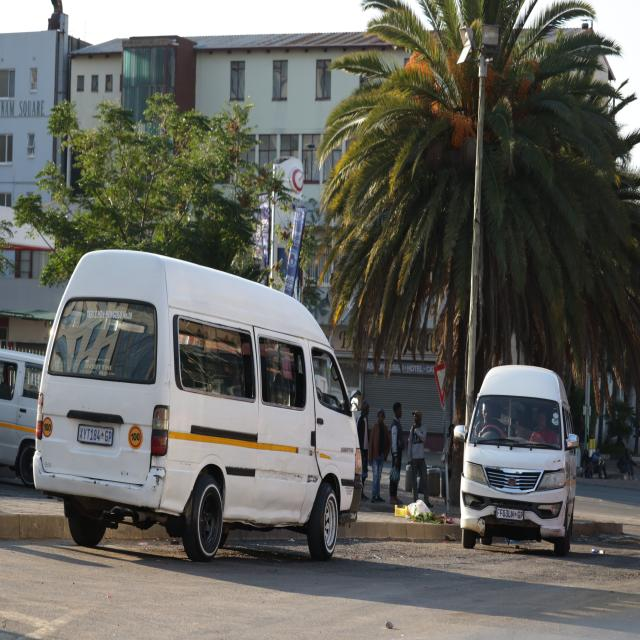MiniBus taxi: (32, 243, 369, 560), (451, 363, 578, 557)
